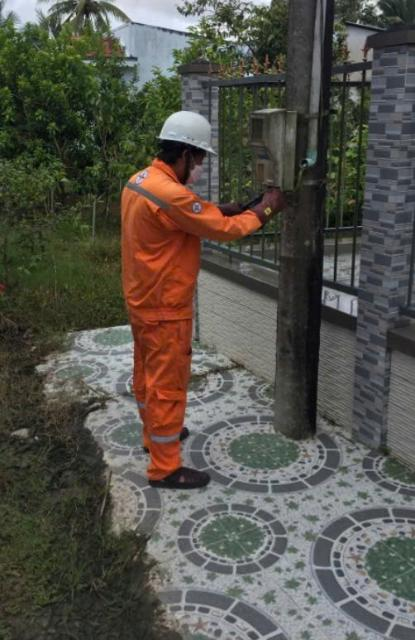gloves: (245, 183, 290, 225), (208, 195, 249, 221)
helmet: (156, 105, 222, 164)
shoes: (139, 455, 219, 496)
